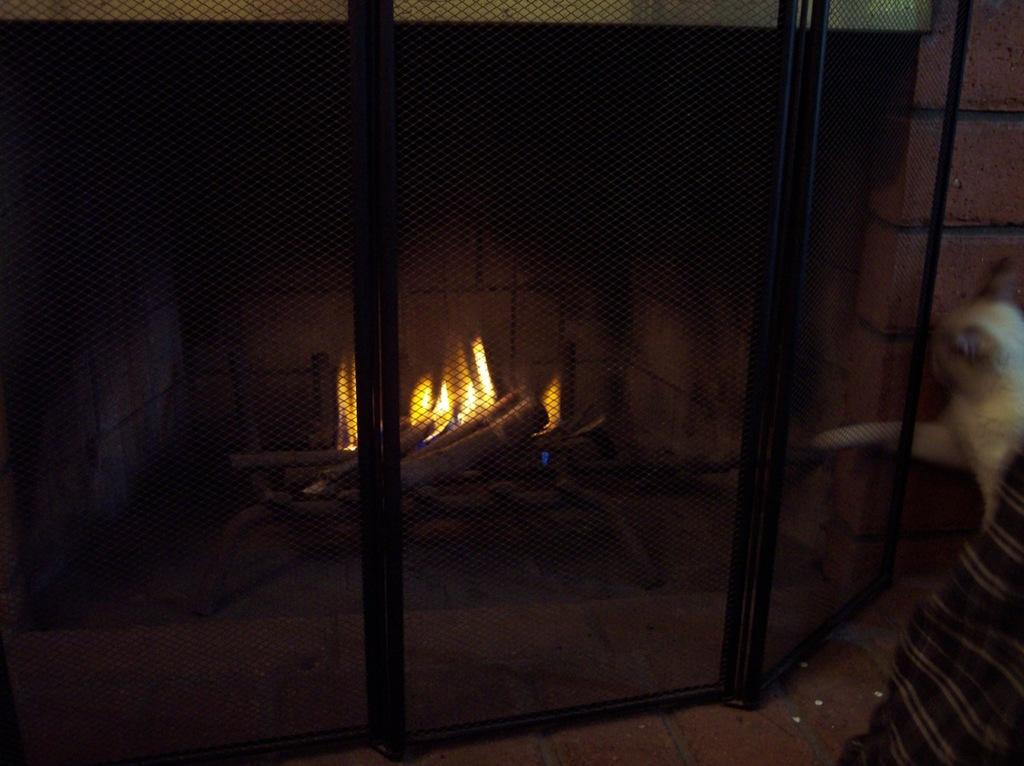Fire: (324, 324, 575, 455)
